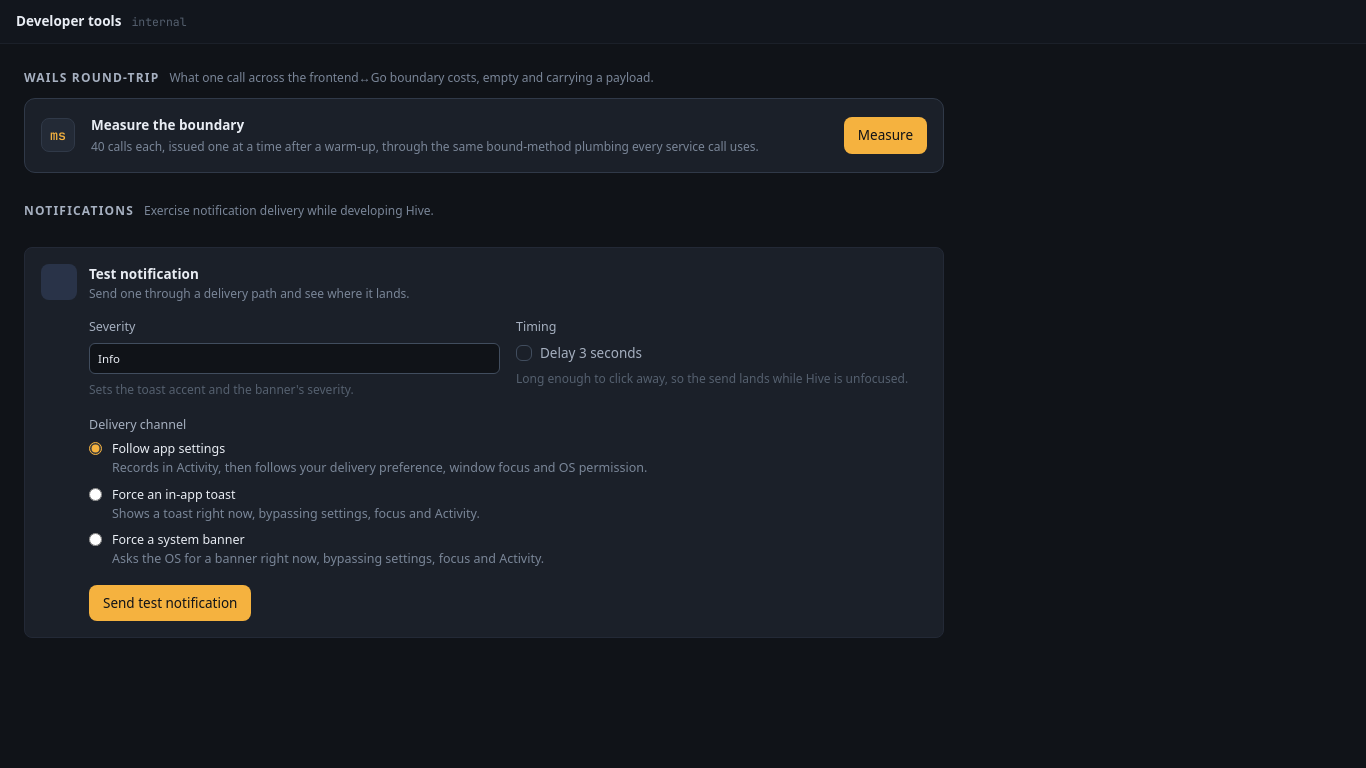
DevView notification test card › reports the banner failure behind an auto notification that fell back to a toast
What coordinates should you click on to do the following:
click the button with test id "dev-notification-send"
I would click on:
 (170, 603)
Its box is [89,585,251,621].
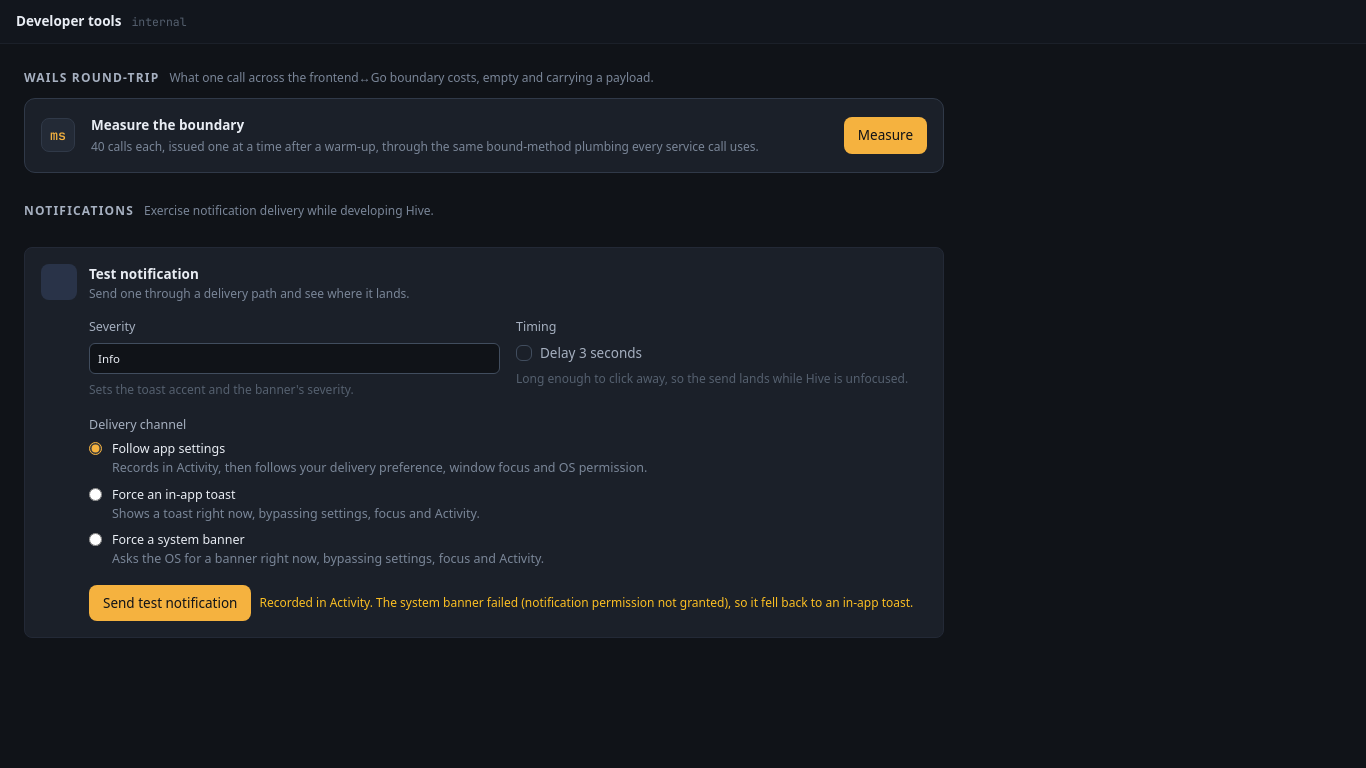
Now the text with test id "dev-notification-result" shows "Recorded in Activity. The system banner failed (notification permission not granted), so it fell back to an in-app toast.", box [259,594,913,611]
